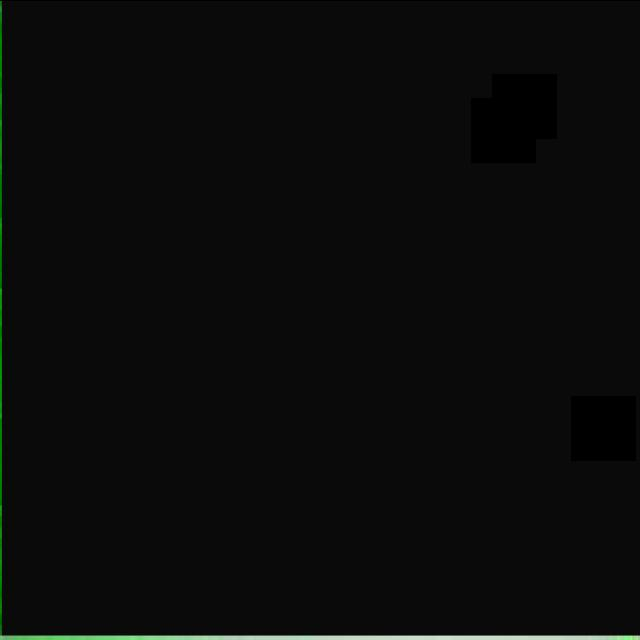nofire: (2, 0, 640, 635)
